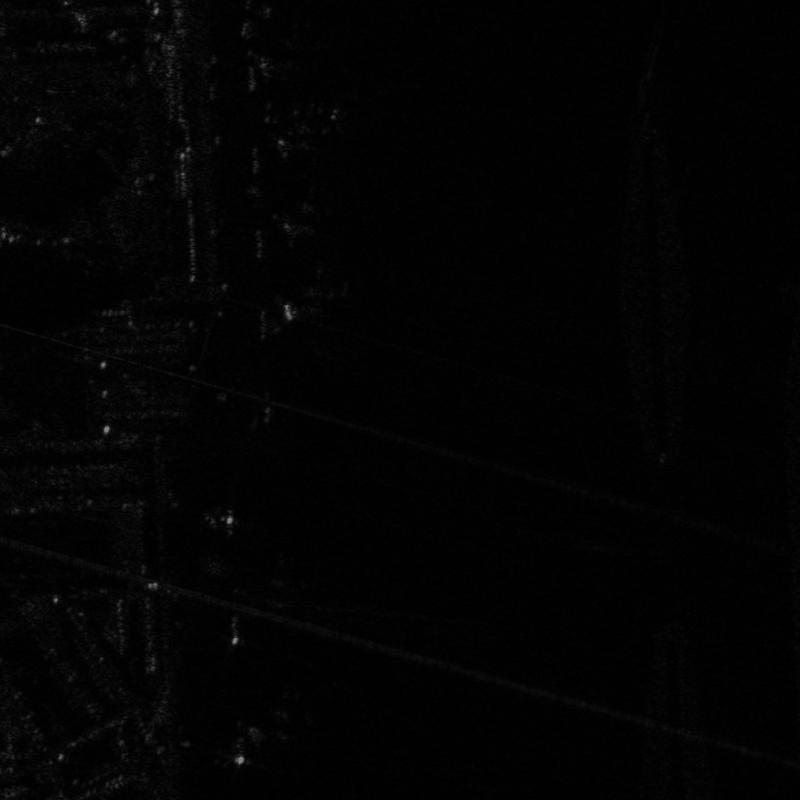A220: (208, 715, 285, 782), (203, 504, 266, 541), (219, 616, 264, 664)
